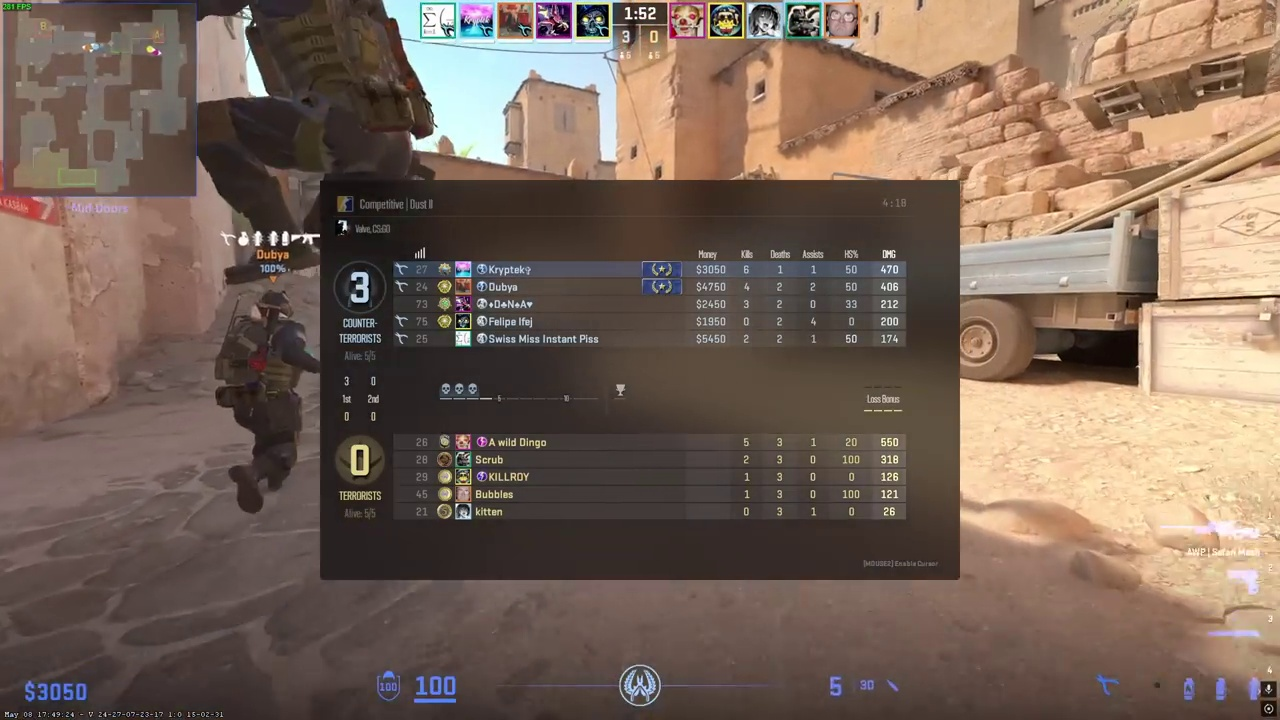CT: (197, 0, 414, 282), (219, 292, 314, 514)
